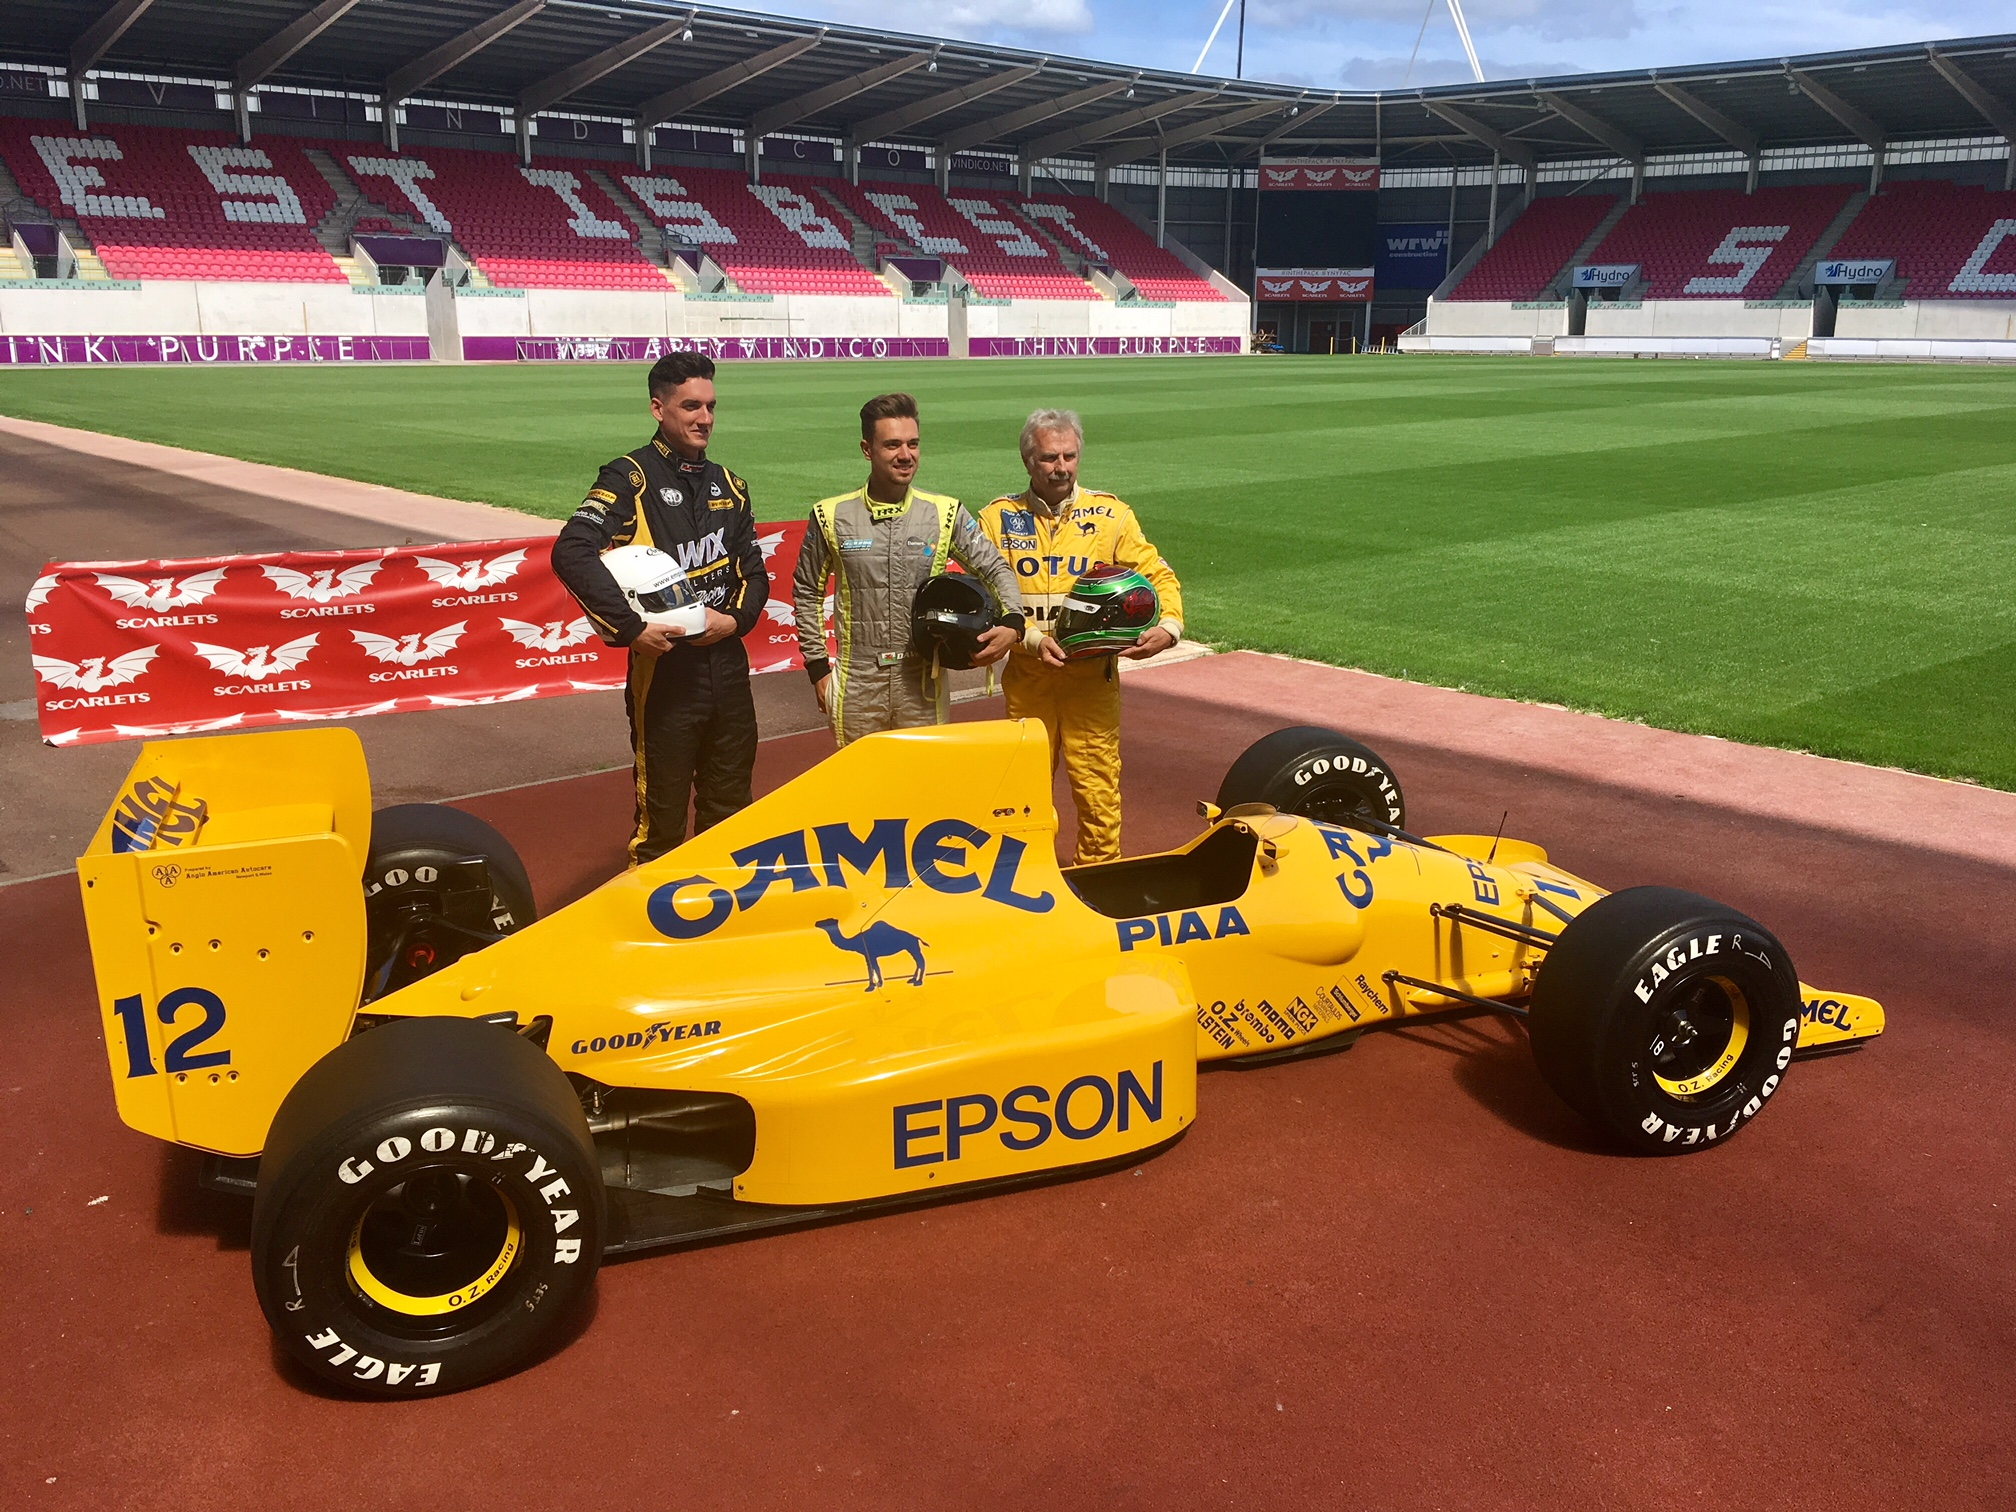f1_car: (62, 664, 1935, 1425)
helmet: (567, 530, 724, 654), (1040, 550, 1179, 675), (902, 565, 1018, 680)
